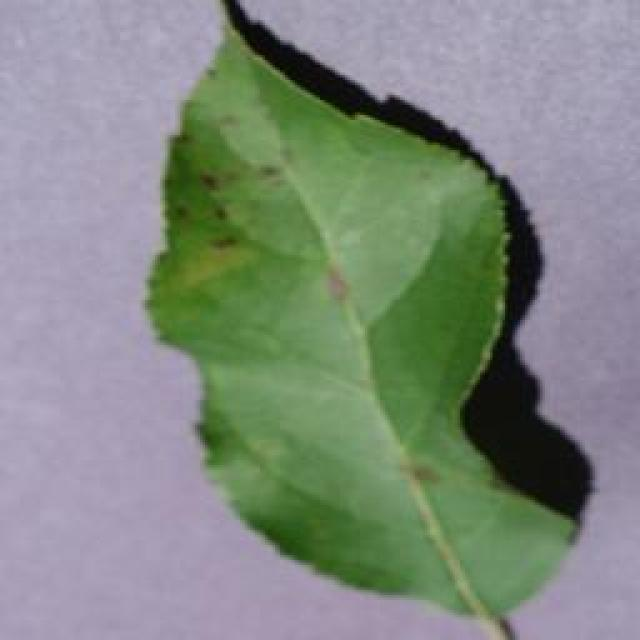apple scab disease: (140, 0, 592, 638)
